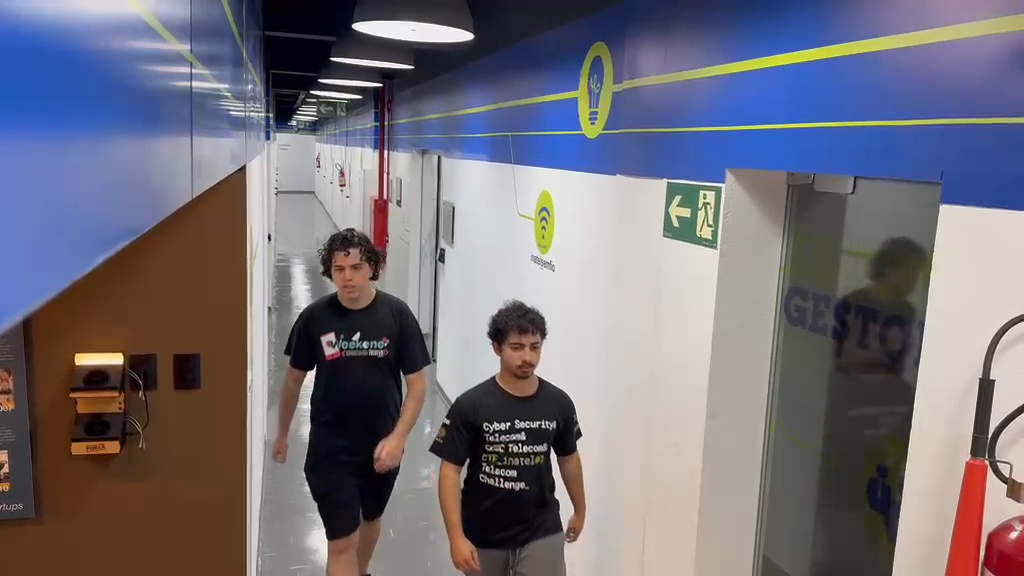person: (271, 229, 431, 573), (429, 300, 586, 574)
